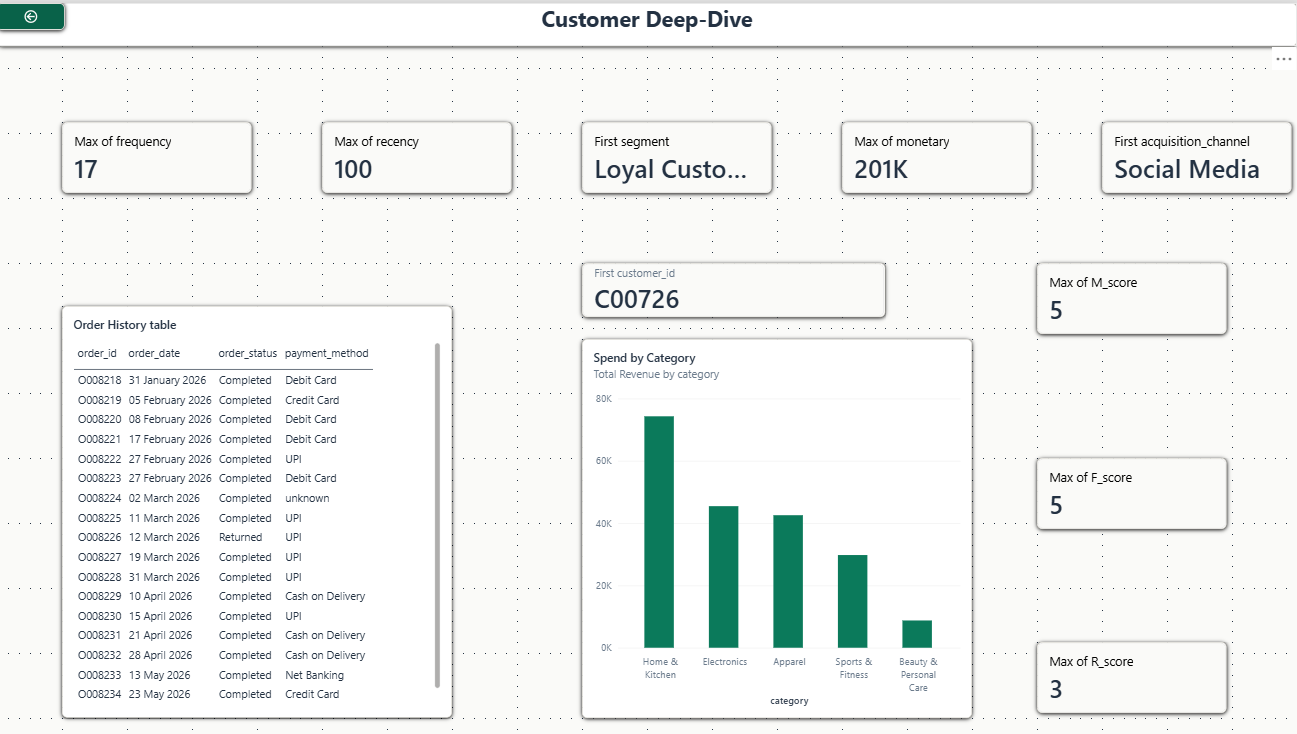

What the dashboard file says about the page in this screenshot:
{"tool":"powerbi","page":{"name":"customer Deep_drive","canvas":[1920,1080],"ordinal":3},"visuals":[{"type":"textbox","box":[0,0,1920,64],"z":0},{"type":"actionButton","box":[0,0,100,40],"z":1},{"type":"cardVisual","fields":{"Data":["Max(customer_360_final.frequency)"]},"box":[96,176,280.4,105.1],"z":2},{"type":"cardVisual","fields":{"Data":["Max(customer_360_final.monetary)"]},"box":[1248,176,280.4,105.1],"z":3},{"type":"cardVisual","fields":{"Data":["Min(customer_360_final.segment)"]},"box":[864,176,280.4,105.1],"z":4},{"type":"cardVisual","fields":{"Data":["Max(customer_360_final.recency)"]},"box":[480,176,280.4,105.1],"z":5},{"type":"cardVisual","fields":{"Data":["Min(customer_360_final.acquisition_channel)"]},"box":[1632,176,280.4,105.1],"z":6},{"type":"cardVisual","fields":{"Data":["Min(customer_360_final.customer_id)"]},"box":[864,384,448,80],"z":7},{"type":"tableEx","title":"Order History table","fields":{"Values":["orders_clean.order_id","orders_clean.order_date","orders_clean.order_status","orders_clean.payment_method"]},"box":[96,448,576,608],"z":8},{"type":"clusteredColumnChart","title":"Spend by Category","fields":{"Category":["products_clean.category"],"Y":["_Measure.Total Revenue"]},"box":[864,496,576,560],"z":9},{"type":"cardVisual","fields":{"Data":["Max(customer_360_final.F_score)"]},"box":[1536,672,280.4,105.1],"z":10},{"type":"cardVisual","fields":{"Data":["Max(customer_360_final.R_score)"]},"box":[1536,944,280.4,105.1],"z":11},{"type":"cardVisual","fields":{"Data":["Max(customer_360_final.M_score)"]},"box":[1536,384,280.4,105.1],"z":12}]}

Visuals, with their boxes on the page's 1920x1080 design canvas (x1, y1, x2, y2). These are canvas units, not pixel positions in the 1297x734 screenshot, which may show the page scaled, cropped or inside an application window:
textbox: 0, 0, 1920, 64
actionButton: 0, 0, 100, 40
cardVisual - Max(customer_360_final.frequency): 96, 176, 376, 281
cardVisual - Max(customer_360_final.monetary): 1248, 176, 1528, 281
cardVisual - Min(customer_360_final.segment): 864, 176, 1144, 281
cardVisual - Max(customer_360_final.recency): 480, 176, 760, 281
cardVisual - Min(customer_360_final.acquisition_channel): 1632, 176, 1912, 281
cardVisual - Min(customer_360_final.customer_id): 864, 384, 1312, 464
"Order History table" tableEx: 96, 448, 672, 1056
"Spend by Category" clusteredColumnChart: 864, 496, 1440, 1056
cardVisual - Max(customer_360_final.F_score): 1536, 672, 1816, 777
cardVisual - Max(customer_360_final.R_score): 1536, 944, 1816, 1049
cardVisual - Max(customer_360_final.M_score): 1536, 384, 1816, 489
